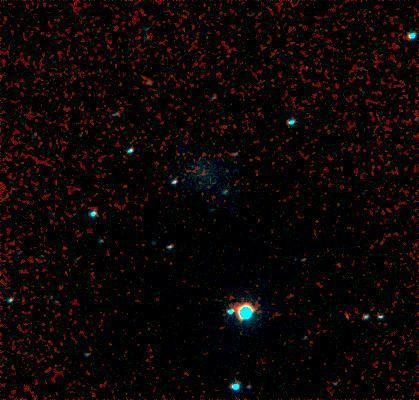star: (335, 303, 365, 333)
